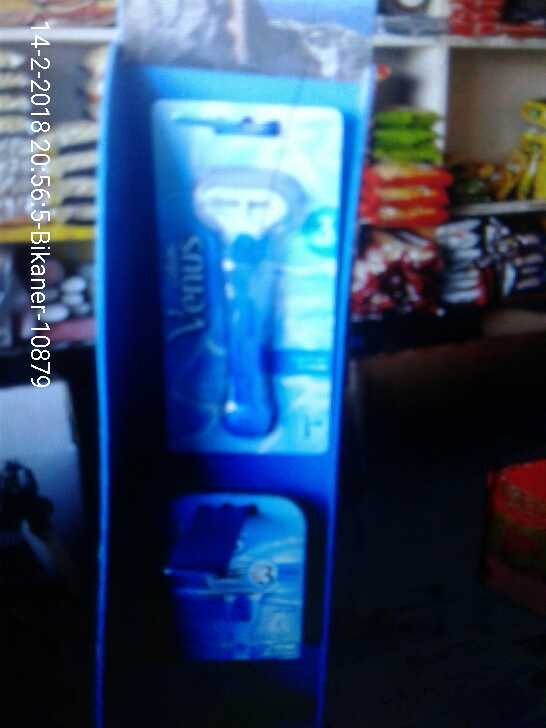venus: (151, 93, 340, 454), (137, 493, 311, 656)
